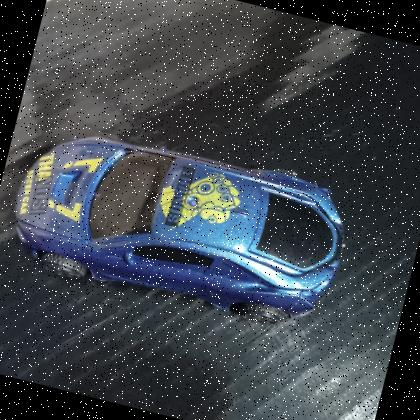Car: (0, 98, 366, 348)
